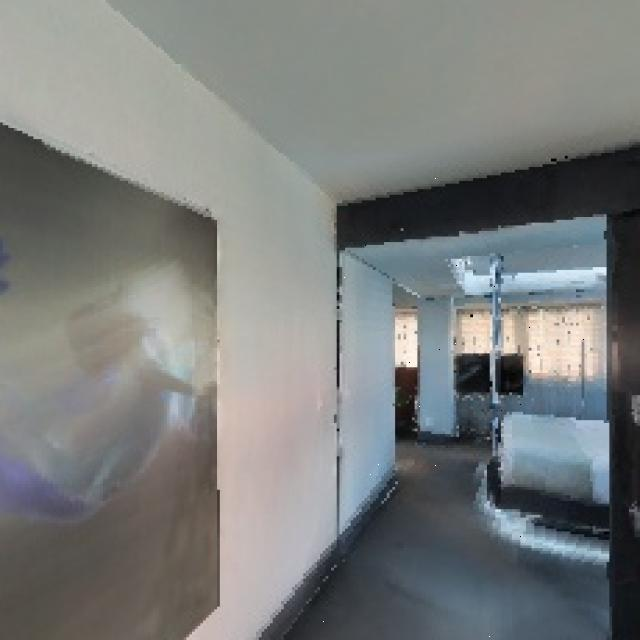door-frame: (311, 153, 640, 640)
